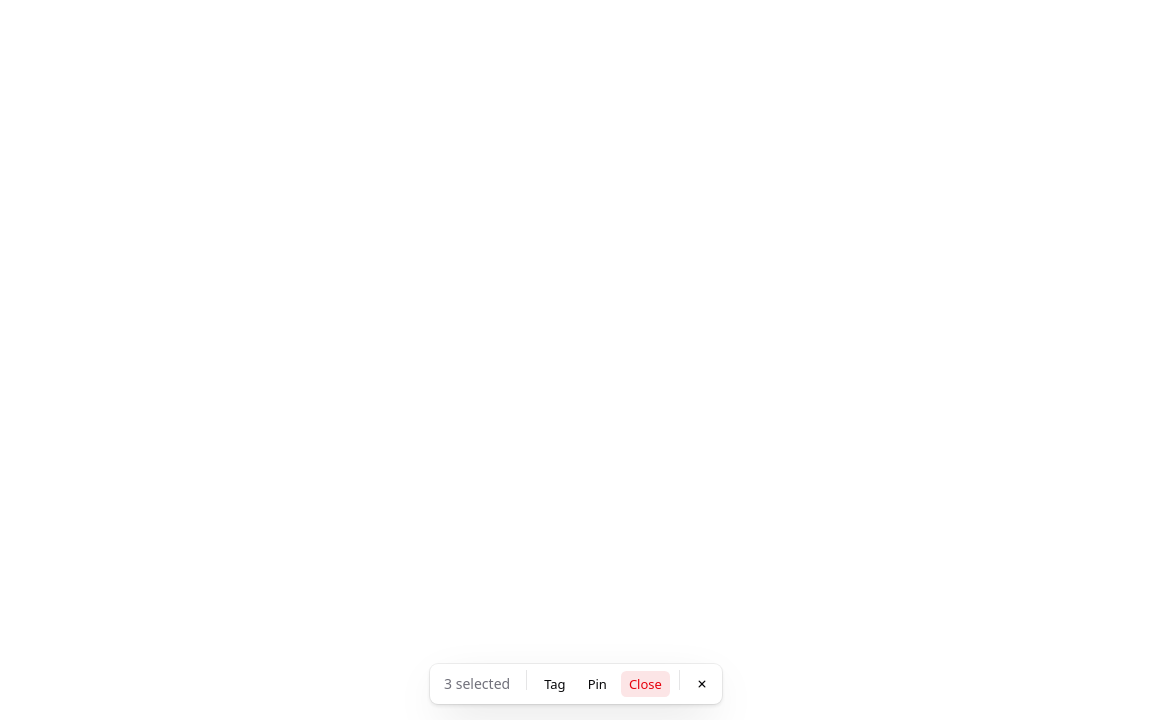
BulkBar › closes the sessions once the confirm is taken
Click the button "Close" at x=645, y=684, box [620,670,671,698]
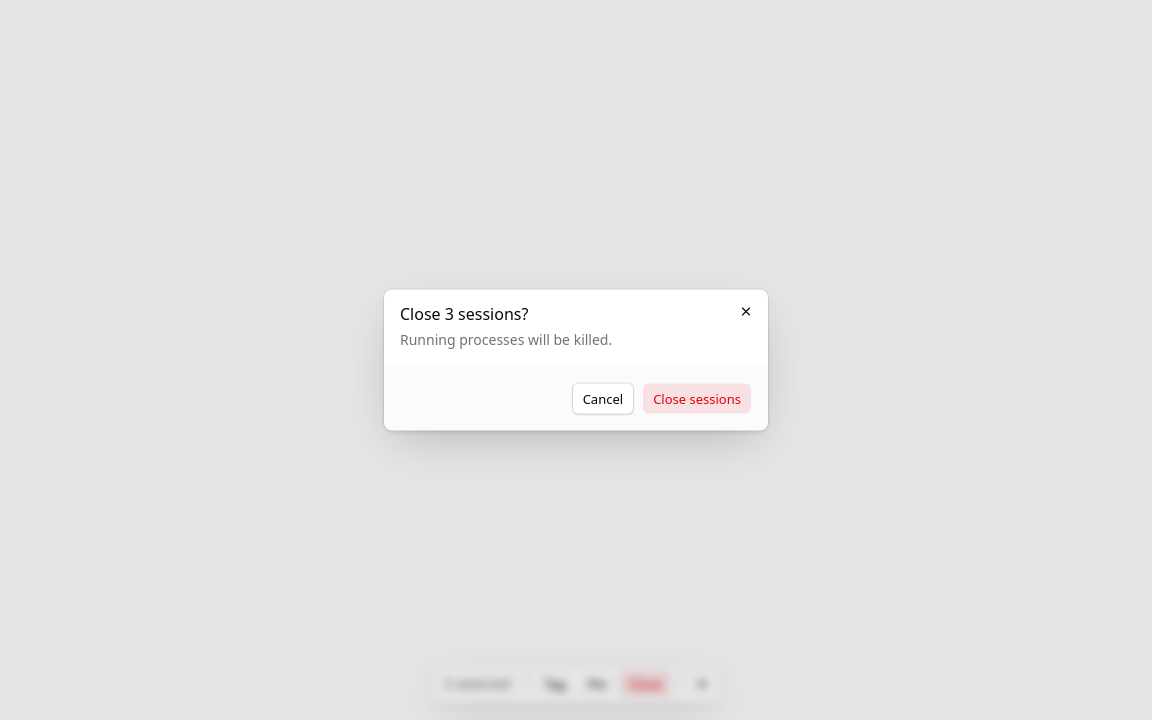
Click the button "Close sessions" at x=697, y=398, box [642,382,752,414]
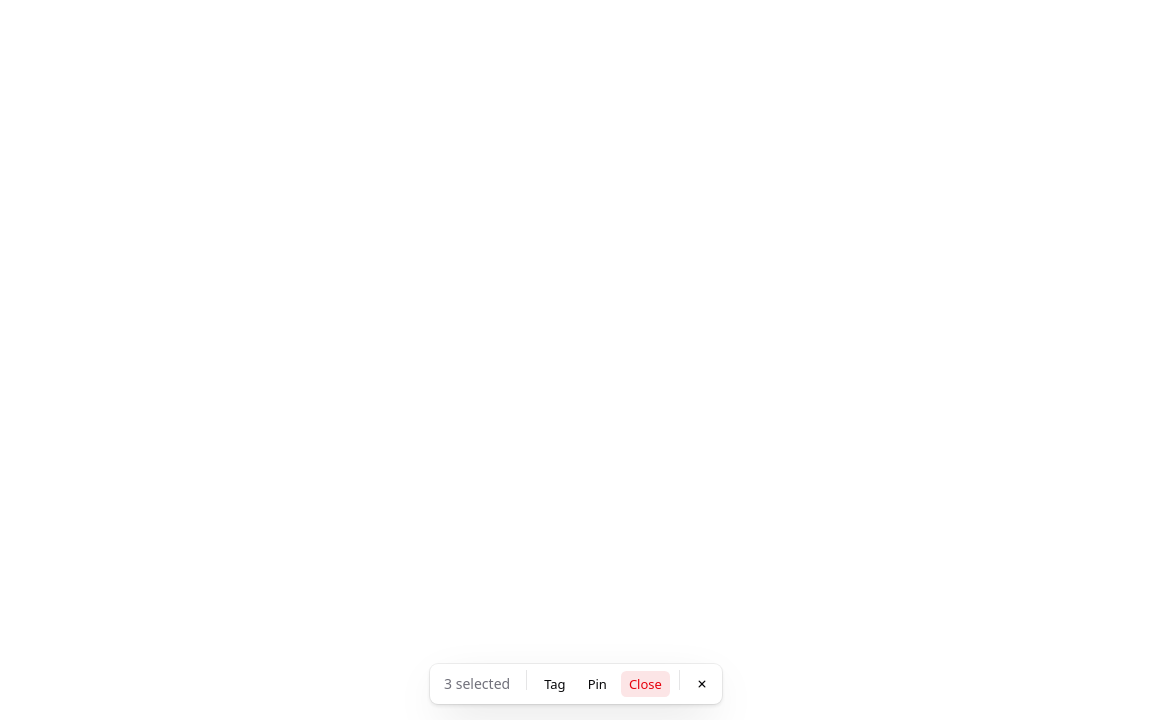
expect the dialog is gone: met
